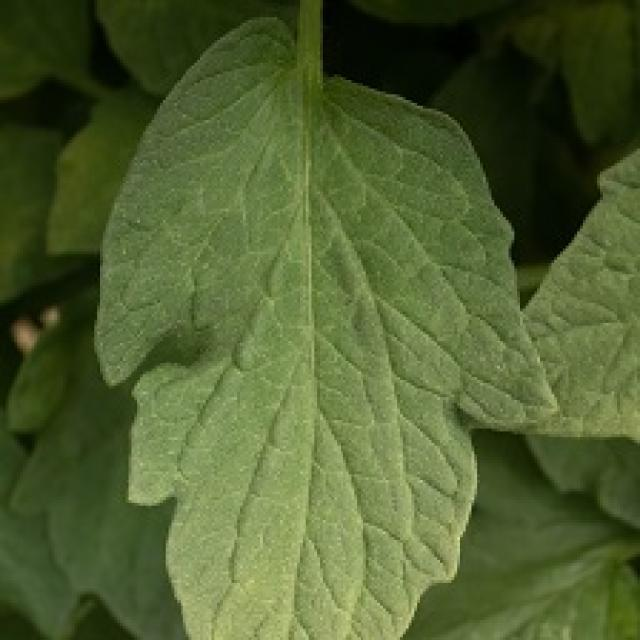Healthy: (33, 0, 592, 640)
